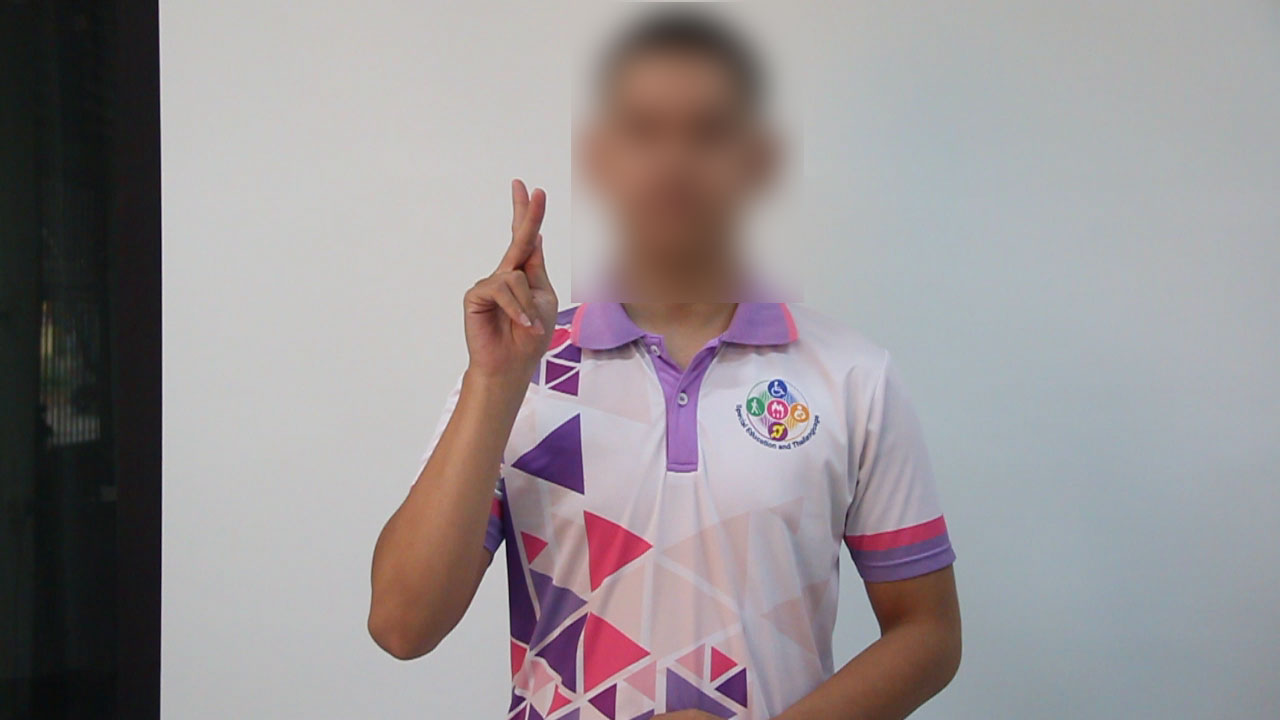ko: (455, 167, 567, 369)
